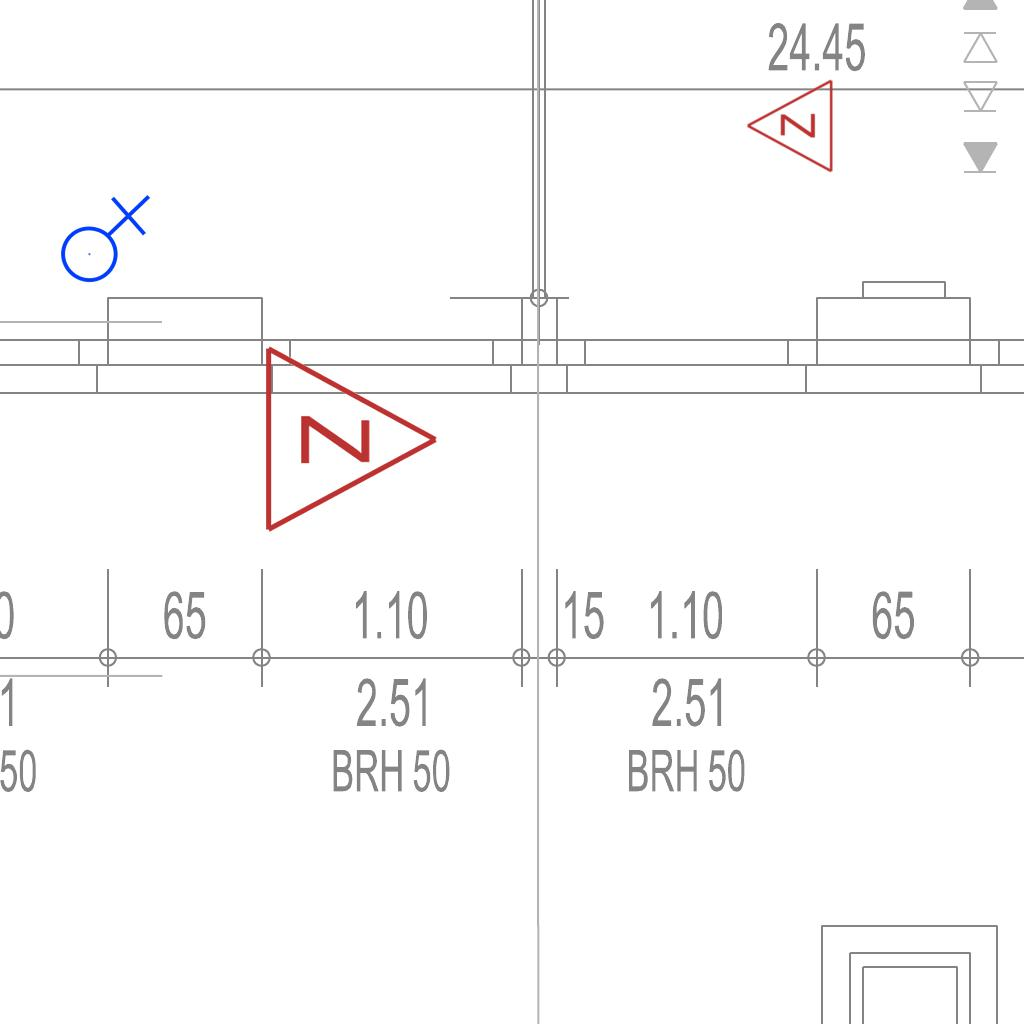Elektroanschluss_allgemein_230V_Geraeteanschlussdose_230V: (52, 190, 151, 284)
Zimmersignalleuchte: (251, 339, 451, 535), (740, 78, 840, 176)
